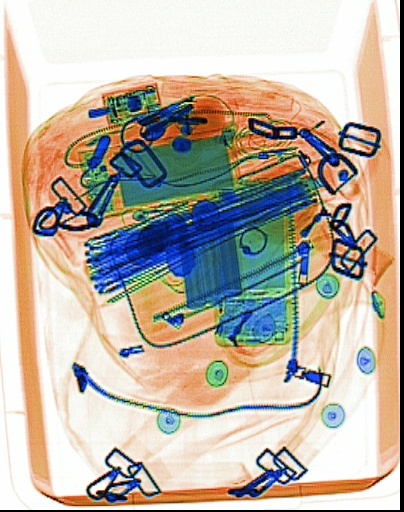powerbank: (174, 210, 243, 311)
